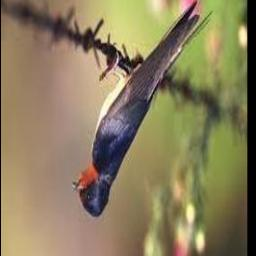Swallow: (72, 0, 213, 216)
